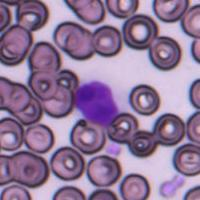M: (72, 76, 123, 128)
